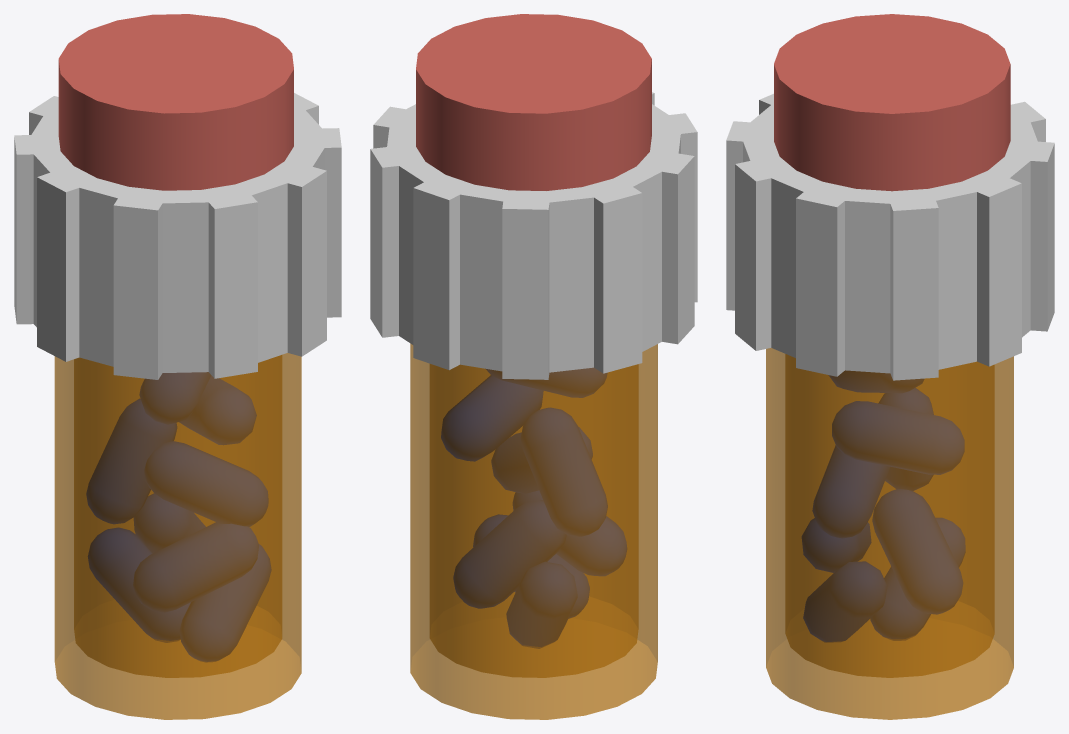
File: pill_bottle_v1.fbx
The picture shows the model from 3 angles, left to right: view 1: azimuth 30°, elevation 25°; view 2: azimuth 150°, elevation 25°; view 3: azimuth 270°, elevation 25°; orthographic projection.
Parts seen in each view (by area): view 1: pill_bottle_outerwall, pill_bottle_lowercap, pill_bottle_innerwall, pill_bottle_uppercap, pill4, pill5, pill6, pill2, pill1, pill7, pill8, pill3; view 2: pill_bottle_outerwall, pill_bottle_lowercap, pill_bottle_innerwall, pill_bottle_uppercap, pill6, pill3, pill7, pill1, pill4, pill5, pill8, pill2; view 3: pill_bottle_outerwall, pill_bottle_lowercap, pill_bottle_innerwall, pill_bottle_uppercap, pill7, pill3, pill2, pill5, pill1, pill4, pill6, pill8.
Boxes of the visible parts, x1=… form: pill_bottle_outerwall: x1=54, y1=353, x2=301, y2=719; pill_bottle_lowercap: x1=14, y1=93, x2=341, y2=379; pill_bottle_innerwall: x1=74, y1=355, x2=281, y2=677; pill_bottle_uppercap: x1=58, y1=14, x2=293, y2=190; pill4: x1=133, y1=522, x2=258, y2=612; pill5: x1=144, y1=441, x2=268, y2=526; pill6: x1=86, y1=399, x2=176, y2=523; pill2: x1=180, y1=544, x2=271, y2=661; pill1: x1=88, y1=528, x2=189, y2=642; pill7: x1=179, y1=376, x2=256, y2=444; pill8: x1=139, y1=372, x2=210, y2=424; pill3: x1=134, y1=493, x2=205, y2=553; pill_bottle_outerwall: x1=410, y1=343, x2=657, y2=719; pill_bottle_lowercap: x1=370, y1=92, x2=697, y2=379; pill_bottle_innerwall: x1=430, y1=364, x2=638, y2=677; pill_bottle_uppercap: x1=416, y1=14, x2=651, y2=190; pill6: x1=521, y1=408, x2=607, y2=536; pill3: x1=453, y1=500, x2=566, y2=608; pill7: x1=441, y1=375, x2=543, y2=461; pill1: x1=506, y1=562, x2=577, y2=648; pill4: x1=513, y1=491, x2=626, y2=575; pill5: x1=491, y1=427, x2=592, y2=493; pill8: x1=486, y1=368, x2=607, y2=397; pill2: x1=473, y1=514, x2=589, y2=618; pill_bottle_outerwall: x1=766, y1=348, x2=1013, y2=719; pill_bottle_lowercap: x1=726, y1=93, x2=1054, y2=380; pill_bottle_innerwall: x1=785, y1=354, x2=994, y2=677; pill_bottle_uppercap: x1=774, y1=14, x2=1010, y2=191; pill7: x1=832, y1=401, x2=964, y2=474; pill3: x1=872, y1=489, x2=962, y2=614; pill2: x1=803, y1=561, x2=887, y2=641; pill5: x1=812, y1=445, x2=889, y2=538; pill1: x1=870, y1=518, x2=965, y2=640; pill4: x1=802, y1=518, x2=871, y2=572; pill6: x1=879, y1=388, x2=933, y2=490; pill8: x1=829, y1=370, x2=923, y2=392.
Bounding box in the file's own units: 1.92 × 3.89 × 1.92.
